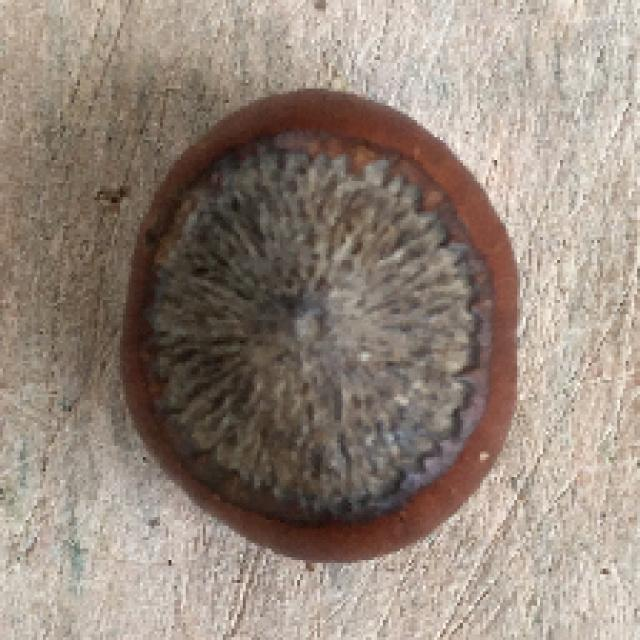damagedHazelnut: (110, 83, 526, 565)
